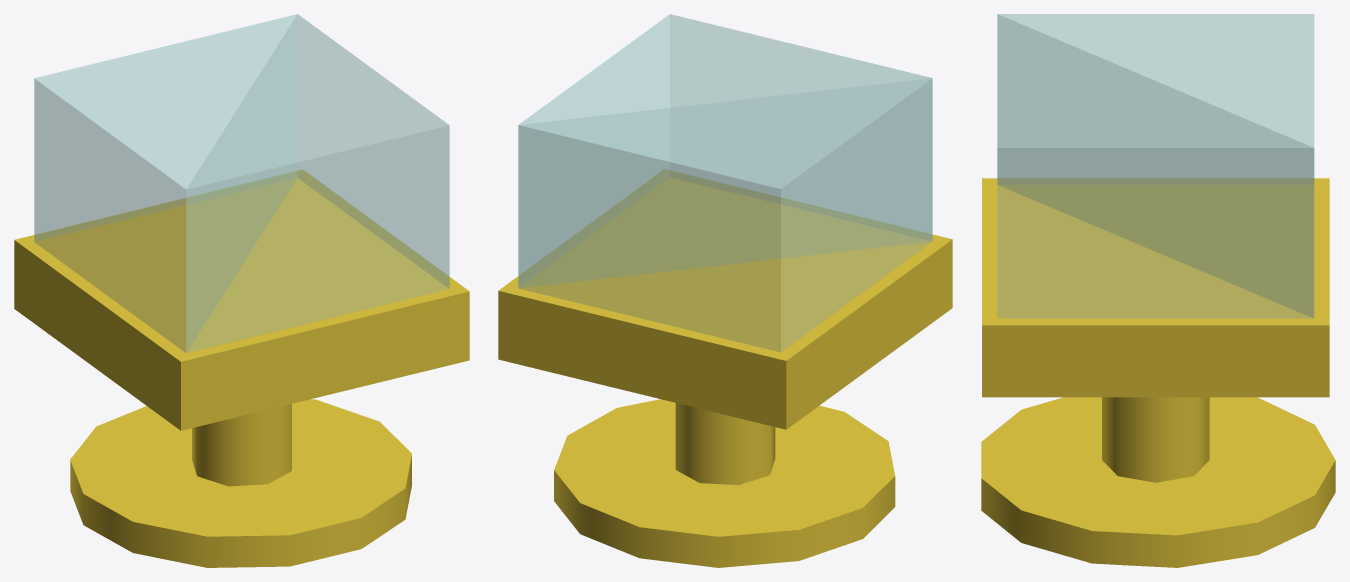
Rendered from prisma_Einstein_beam_splitter_01.fbx.
3 views of the same model, side by side, from view 1: azimuth 30°, elevation 25°; view 2: azimuth 150°, elevation 25°; view 3: azimuth 270°, elevation 25° (orthographic). The views are drawn at different scales.
Parts seen in each view (by area): view 1: soporte_prisma_eje_vertical, Cubo; view 2: soporte_prisma_eje_vertical, Cubo; view 3: soporte_prisma_eje_vertical, Cubo.
Boxes of the visible parts, <box> form: soporte_prisma_eje_vertical: <box>14,169,469,567</box>; Cubo: <box>34,14,449,352</box>; soporte_prisma_eje_vertical: <box>498,169,952,567</box>; Cubo: <box>518,14,932,352</box>; soporte_prisma_eje_vertical: <box>981,178,1335,567</box>; Cubo: <box>997,14,1314,318</box>.
Bounding box in the file's own units: 19.85 × 25.27 × 19.71.
